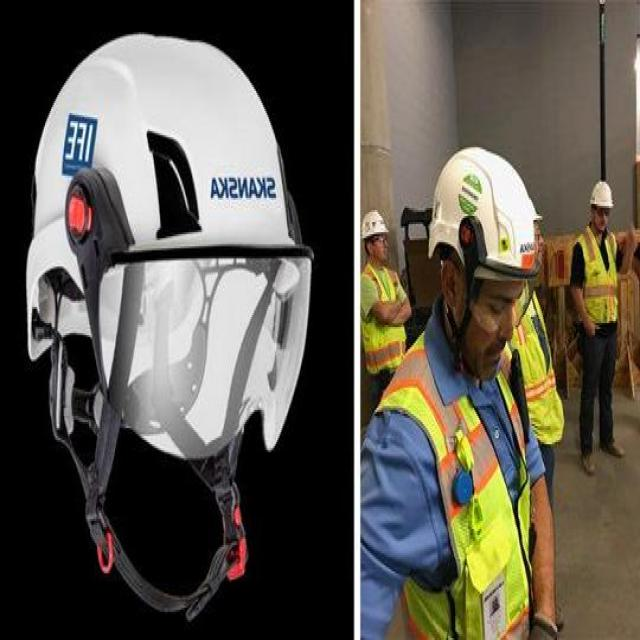Reflective-Jacket: (377, 339, 534, 640), (574, 226, 621, 333)
Safety-Helmet: (17, 32, 321, 303), (424, 139, 546, 283), (360, 206, 390, 242), (588, 176, 616, 212)
